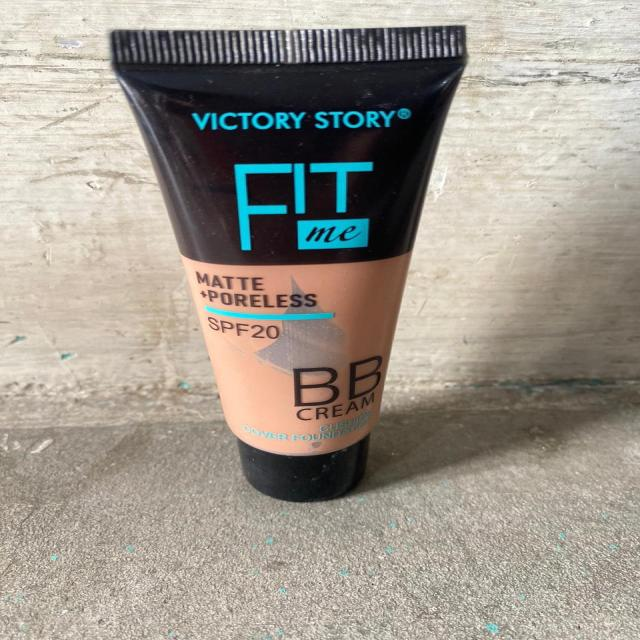bb cream: (98, 6, 499, 509)
